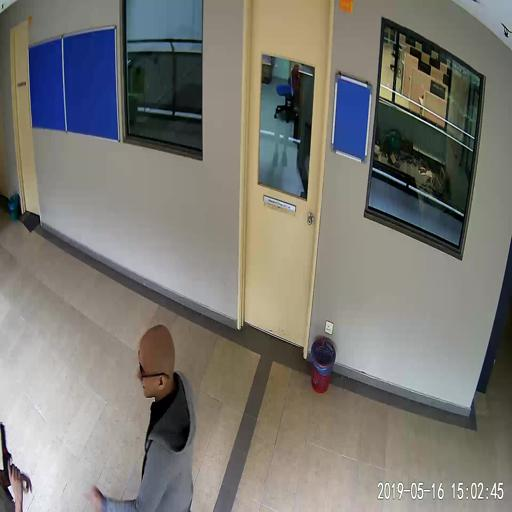pistol: (0, 422, 22, 481)
